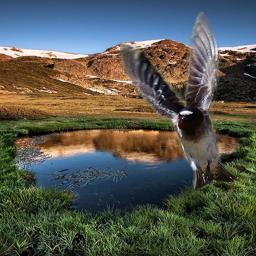Swallow: (120, 12, 241, 189)
